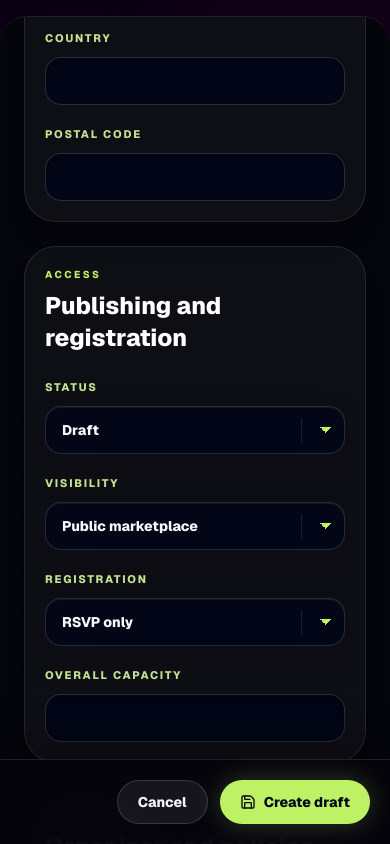
Test: organizer event editor › opens the add-event route as a VAIVIA modal with validated place and date/time controls
The width and height of the screenshot is (390, 844).
(page scrolled)
Expected: the button "Create draft" is shown, [220,780,370,824]
Step 1. Select "Published now" in the dropdown labelled "Status" → coordinates (195, 430), box [45,406,345,454]
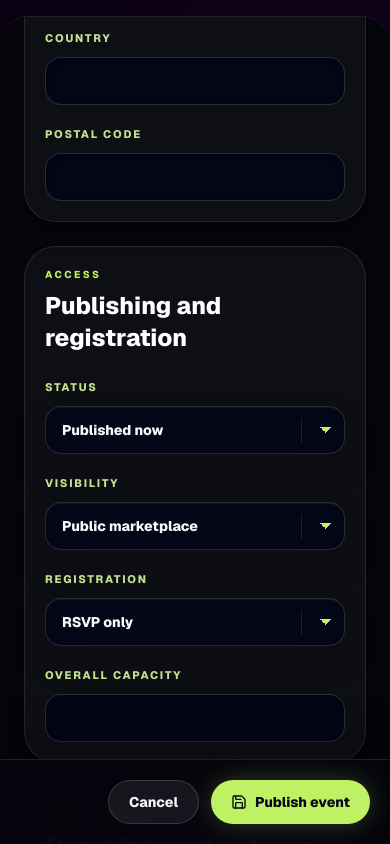
Expected: the text "Publication date" is not shown
Expected: the button "Publish event" is shown, [211,780,370,824]
Step 2. Select "Scheduled publication" in the dropdown labelled "Status" → coordinates (195, 430), box [45,406,345,454]
(page scrolled)
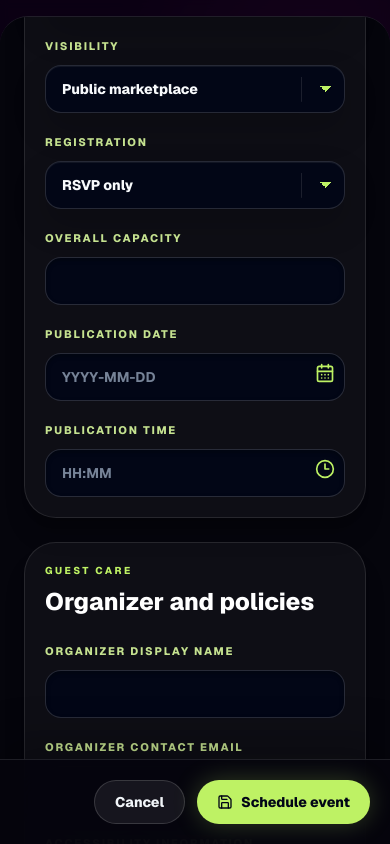
Expected: the button "Schedule event" is shown, [197,780,370,824]
Expected: the text "Publication date" is shown, [45,327,178,341]
Expected: the text "Publication time" is shown, [45,423,177,437]
